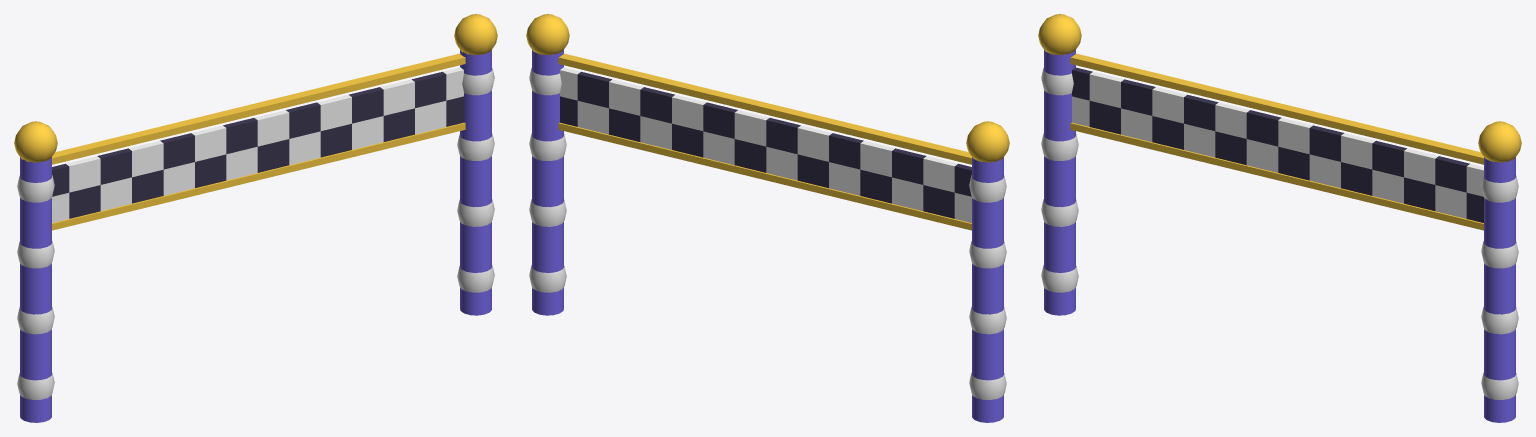
File: gate_finish.glb
The picture shows the model from 3 angles, left to right: view 1: azimuth 30°, elevation 25°; view 2: azimuth 150°, elevation 25°; view 3: azimuth 330°, elevation 25°; orthographic projection.
Parts seen in each view (by area): view 1: gate_finish; view 2: gate_finish; view 3: gate_finish.
Part boxes in pixels (x1=…): gate_finish: x1=14, y1=14, x2=497, y2=422; gate_finish: x1=526, y1=14, x2=1009, y2=422; gate_finish: x1=1038, y1=14, x2=1521, y2=422.
Size of the model in its own units: 15.2 by 8.9 by 1.2.
